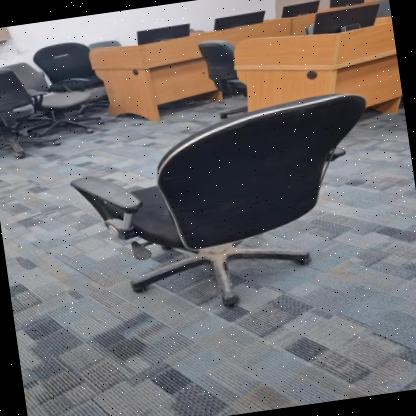chair: (50, 79, 398, 335)
